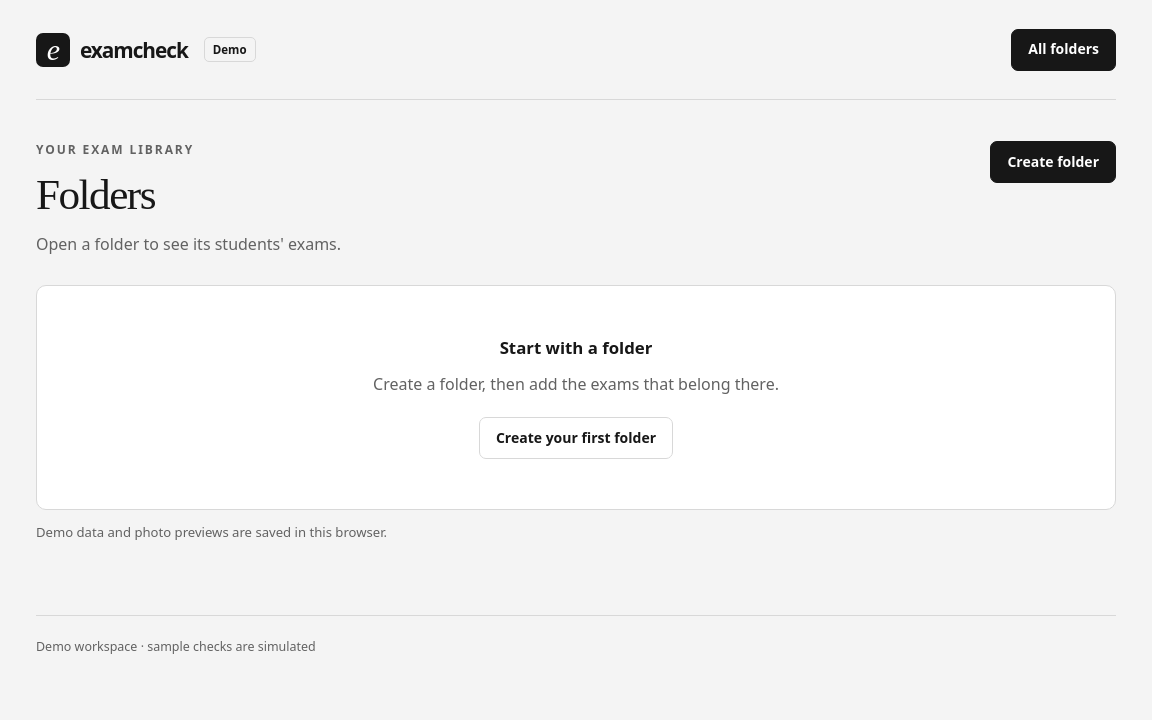
Test: React workspace workflows › creates a named folder and opens its exam list
Click the button "Create folder" at (1053, 162), box [990,141,1116,183]
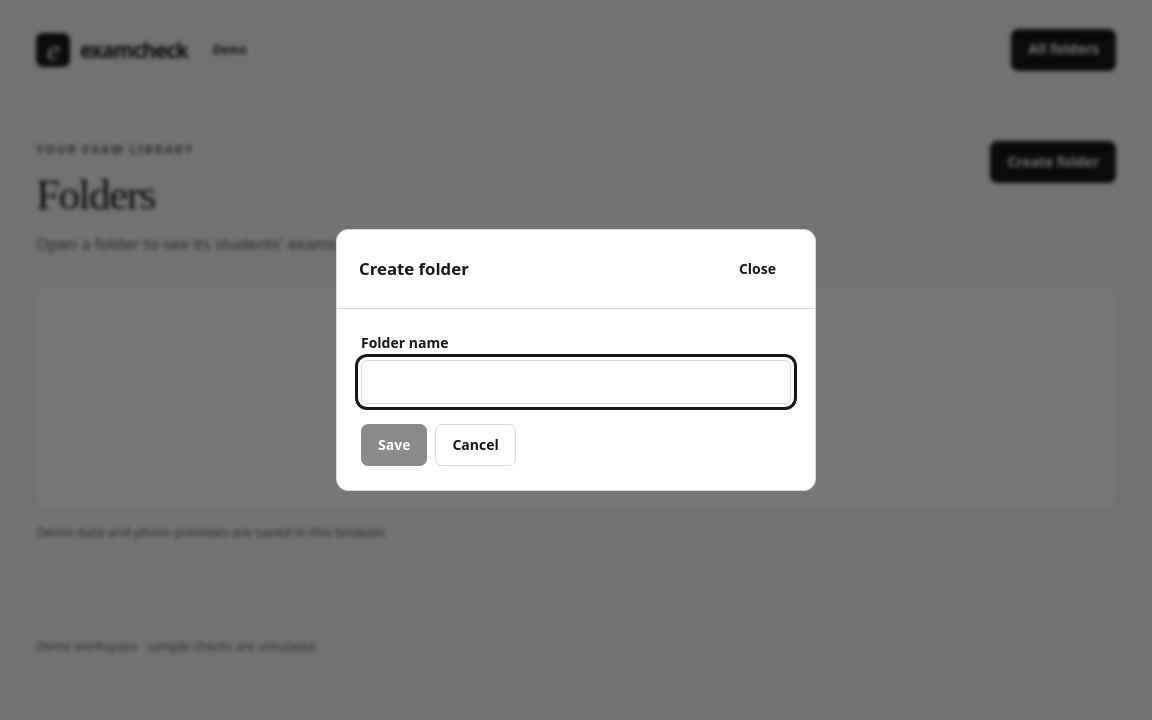
Type "CAE November" into the field labelled "Folder name" at (576, 382), box [361,360,791,404]
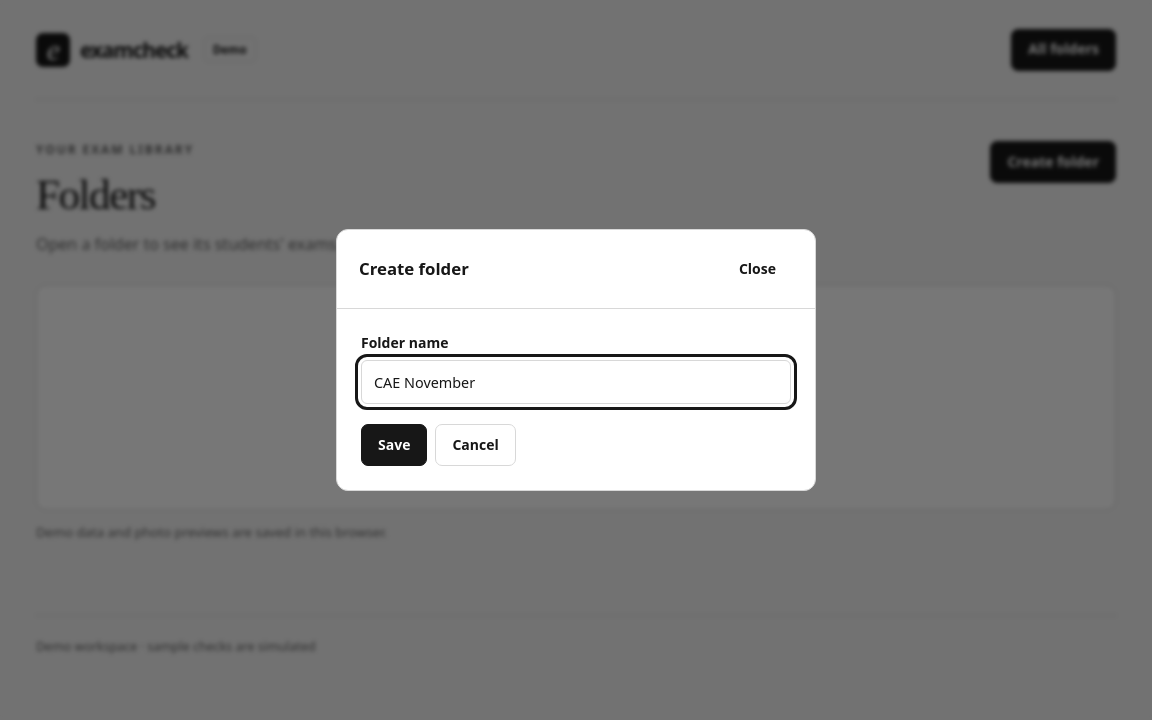
Click the button "Save" at (394, 445), box [361,424,427,466]
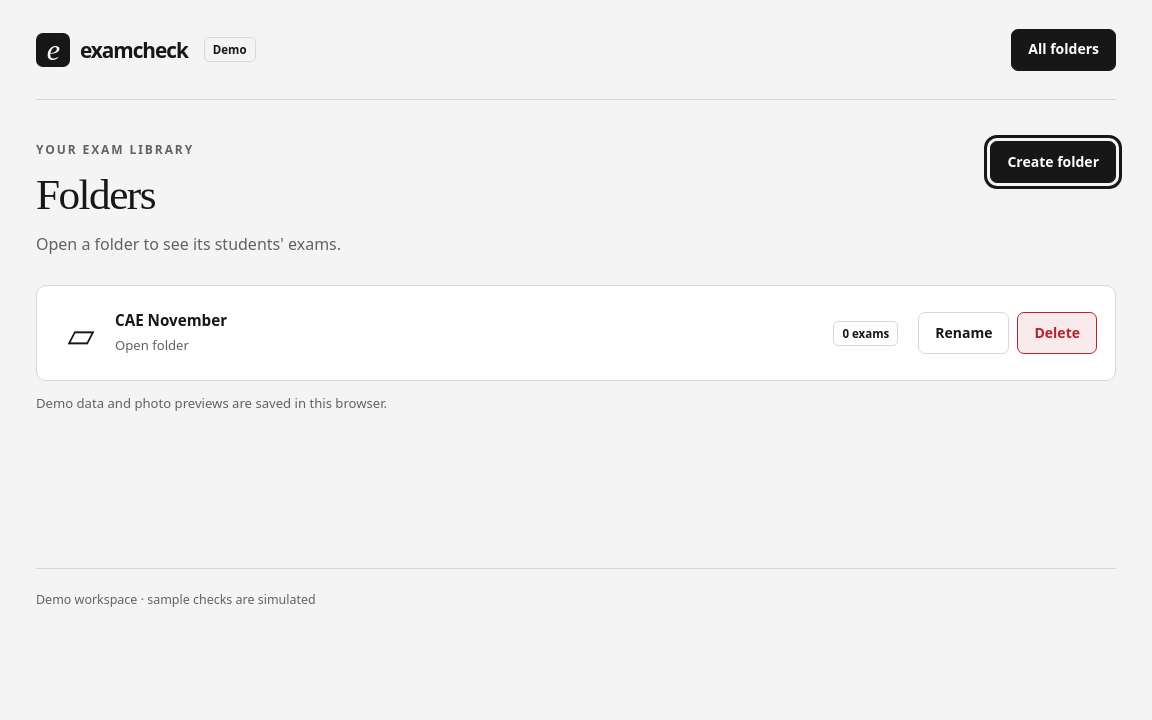
Check: the dialog is gone
Click the link "▱ CAE November Open folder 0 exams" at (171, 320), box [55,298,906,368]
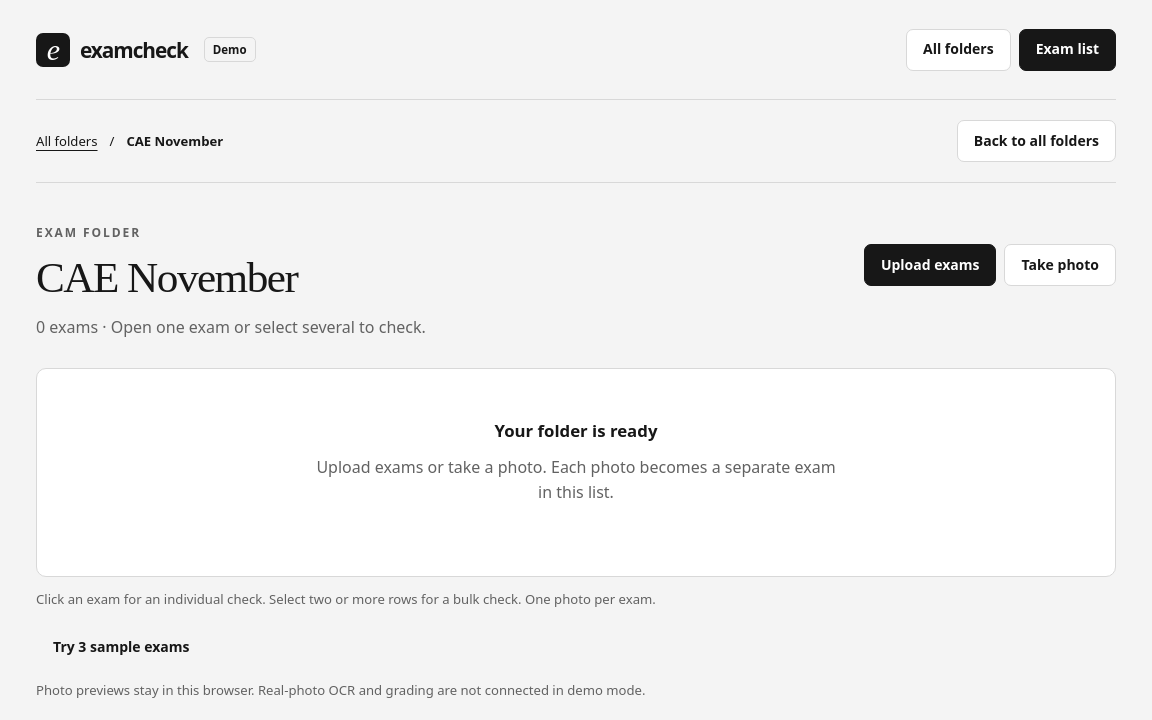
Check: the heading "CAE November" is shown, box [36,254,297,301]
Check: the button "Upload exams" is shown, box [864,244,996,286]
Check: the button "Take photo" is shown, box [1004,244,1116,286]
